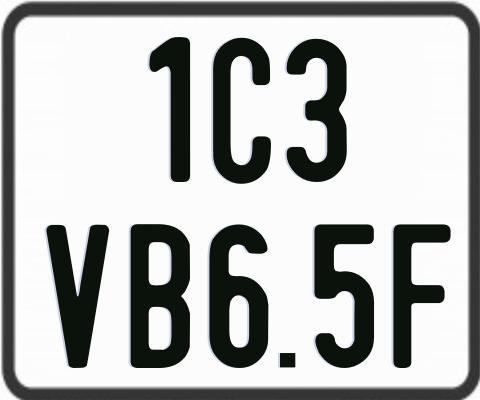1: (146, 37, 190, 186)
3: (284, 38, 349, 183)
5: (311, 223, 372, 368)
6: (206, 223, 271, 367)
B: (131, 224, 193, 373)
C: (213, 37, 274, 186)
F: (390, 224, 454, 374)
V: (43, 224, 111, 368)
